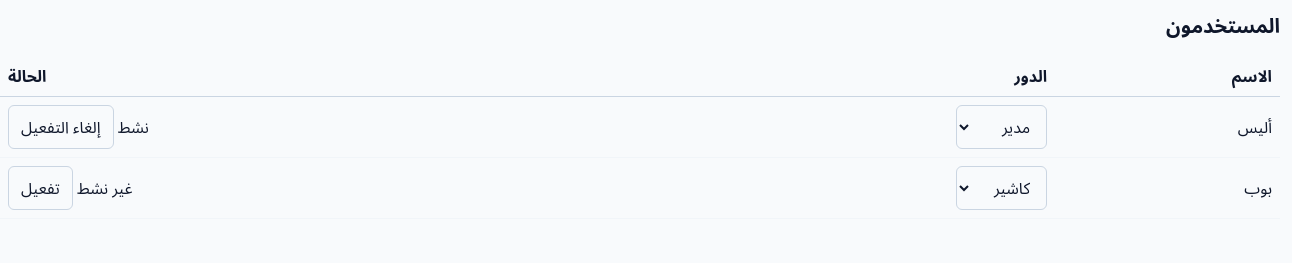
UsersPage › toggles status to inactive and shows success in Arabic
Expected: the text "أليس" is shown, [1238, 116, 1272, 138]
Click the button with aria-label "أليس إلغاء التفعيل" at (61, 127), box [8, 105, 114, 149]
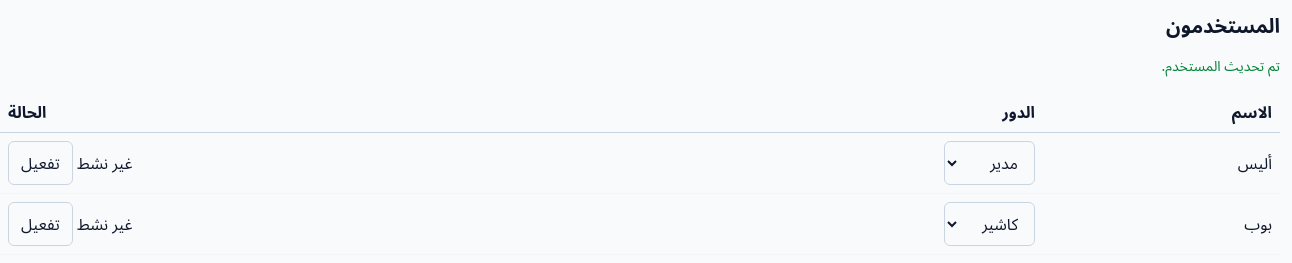
Expected: the text "تم تحديث المستخدم." is shown, [1162, 56, 1280, 75]
